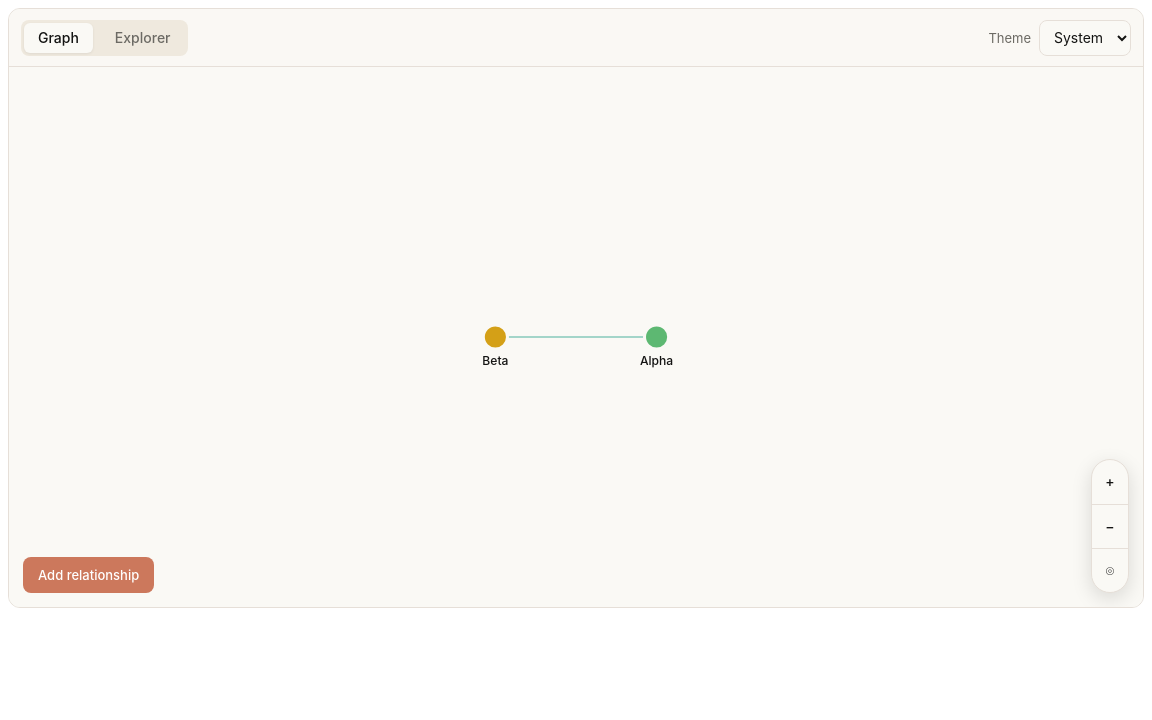
Test case: RelationshipEditor › opens and closes the panel
The width and height of the screenshot is (1152, 720).
Check: the button "Create" is not shown
Click the button "Add relationship". click: click(89, 575)
box: [23,557,154,593]
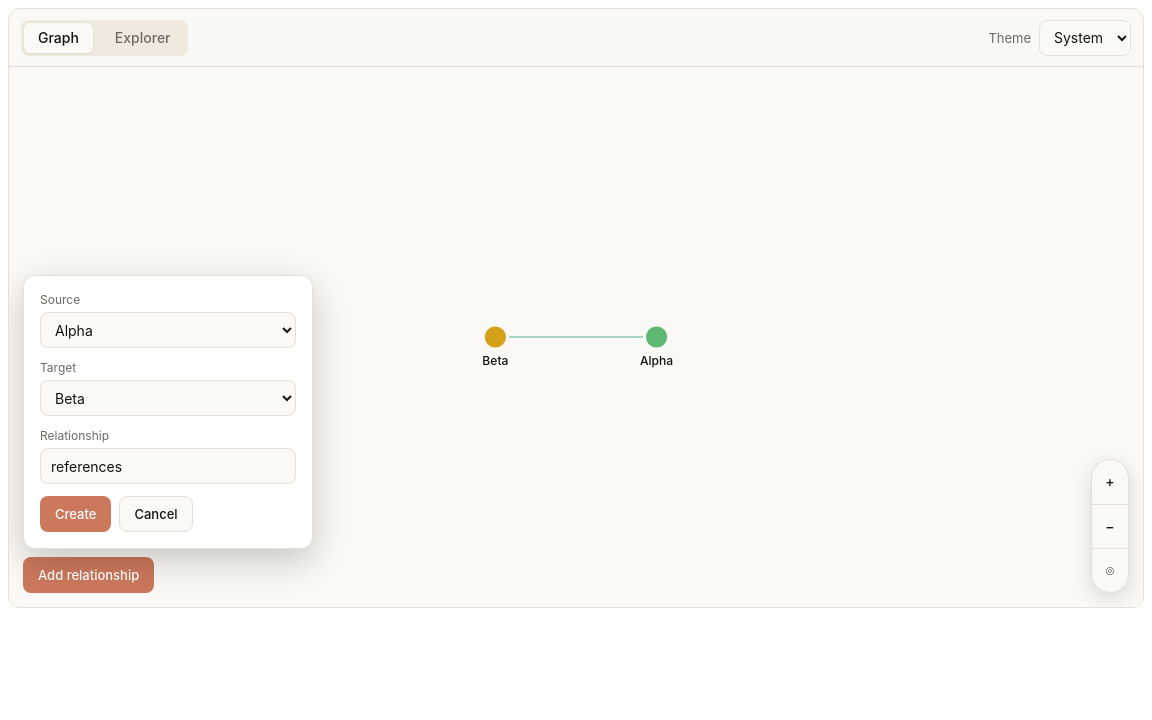
Check: the button "Create" is shown, box [40,496,111,532]
Click the button "Cancel". click: click(156, 514)
box: [119,496,193,532]
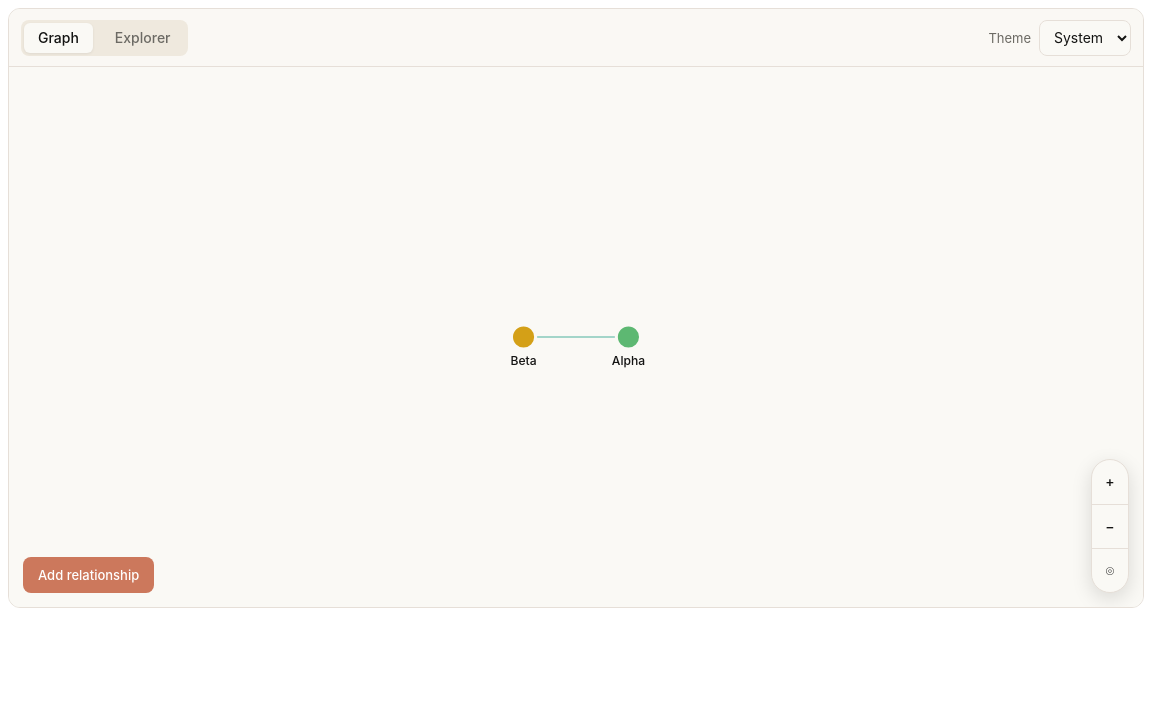
Check: the button "Create" is gone
